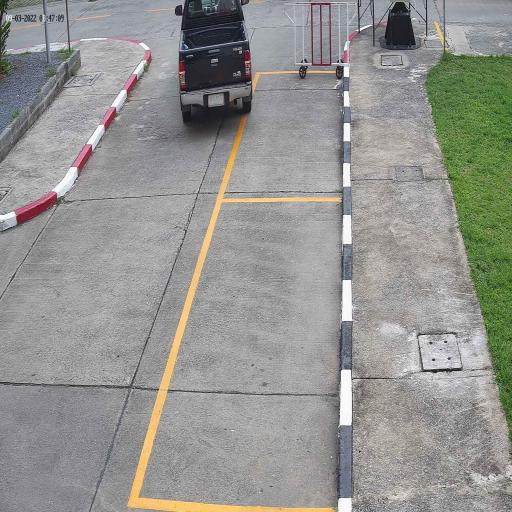car: (178, 0, 254, 124)
